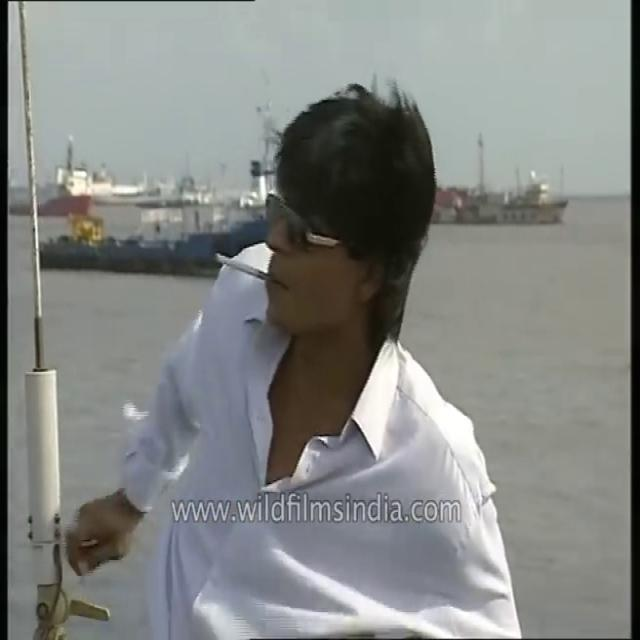Smooking: (208, 244, 276, 286)
